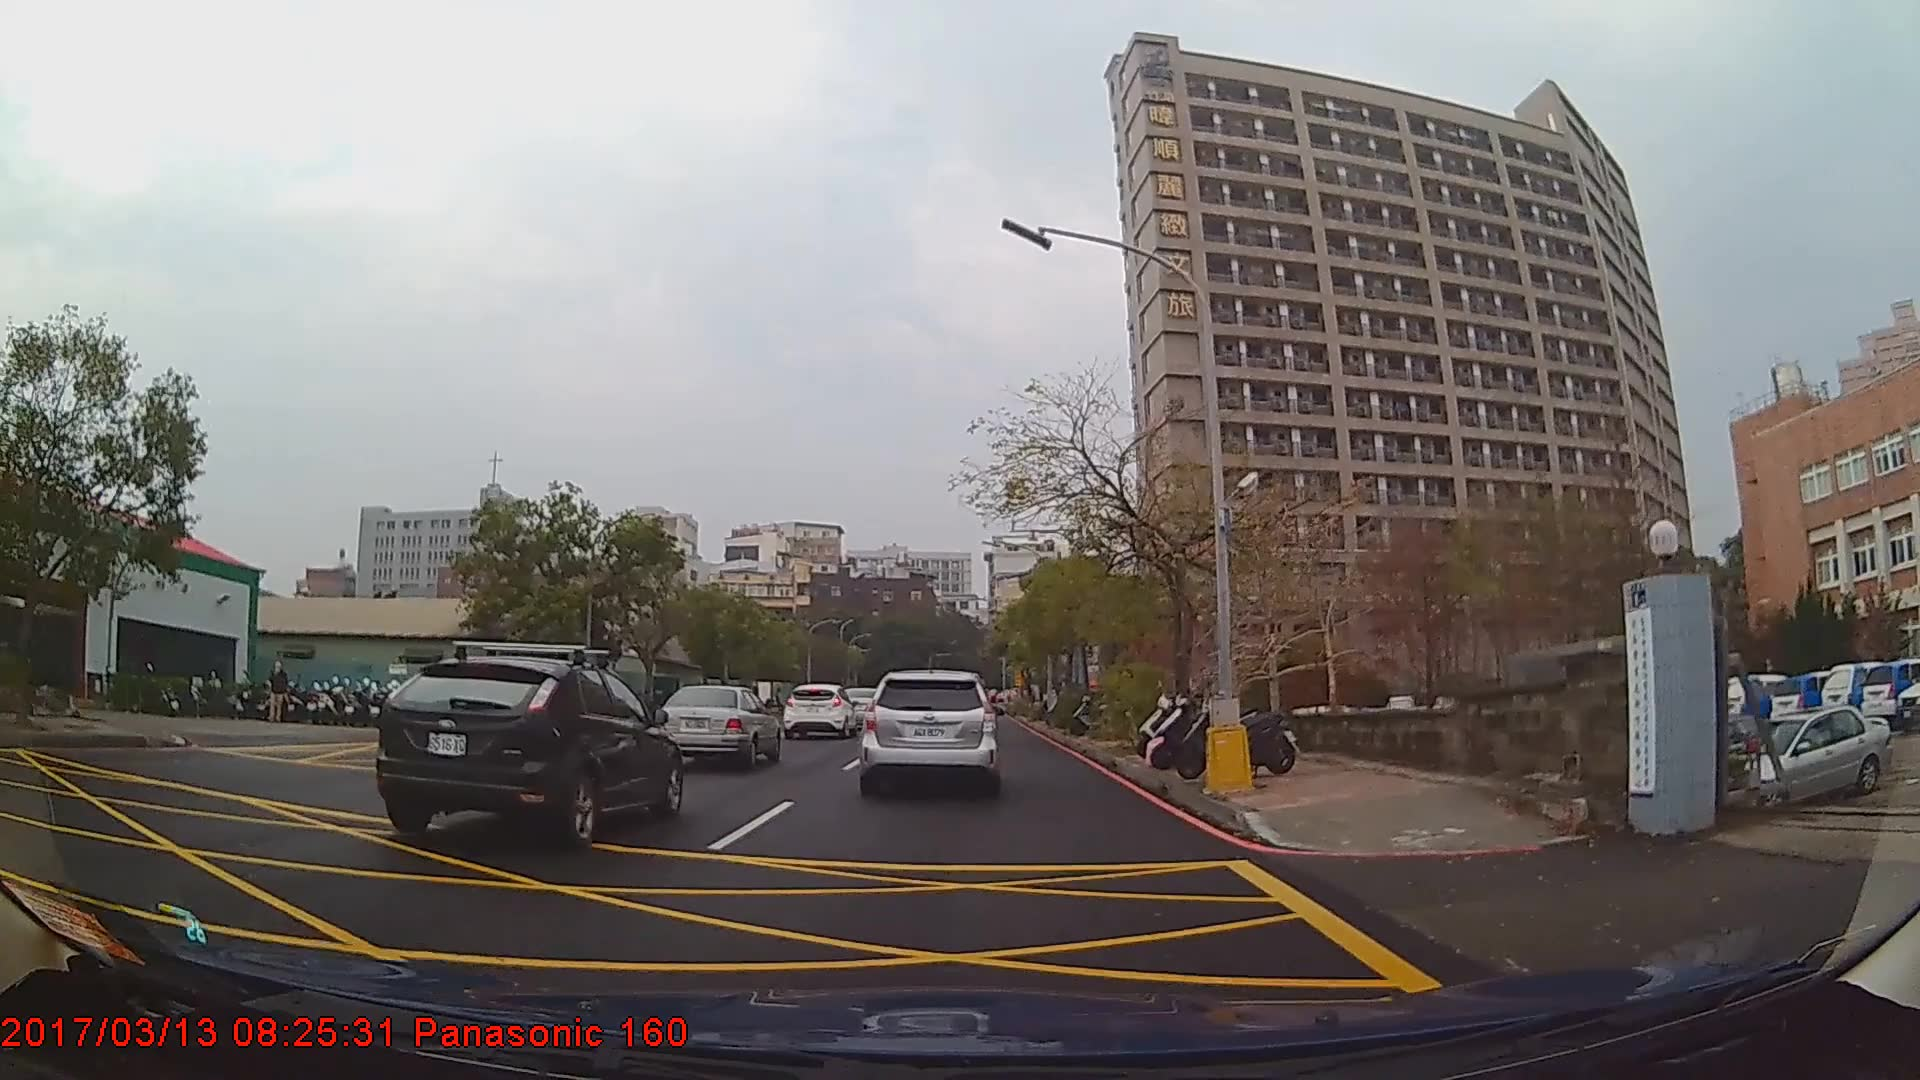pedestrian: (267, 663, 289, 723)
vehicle: (372, 653, 681, 841), (1717, 704, 1893, 807), (860, 667, 996, 795), (655, 682, 781, 768), (783, 683, 858, 741)
